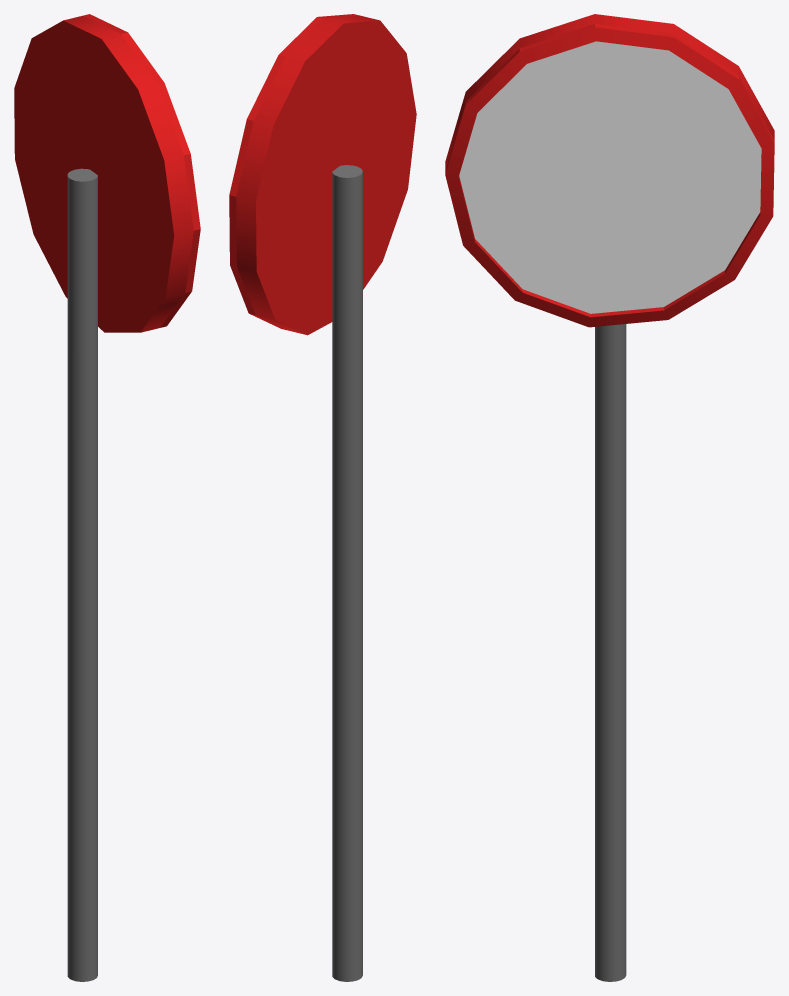
File: RoadSign_04.fbx
3 views of the same model, side by side, from view 1: azimuth 30°, elevation 25°; view 2: azimuth 150°, elevation 25°; view 3: azimuth 270°, elevation 25° (orthographic). The views are drawn at different scales.
Parts seen in each view (by area): view 1: circle_signs_w__ext; view 2: circle_signs_w__ext; view 3: circle_signs_w__ext.
Boxes of the visible parts, x1,y1,x2,y2 form: circle_signs_w__ext: [14, 14, 200, 981]; circle_signs_w__ext: [229, 14, 416, 981]; circle_signs_w__ext: [445, 14, 774, 981].
Size of the model in its own units: 0.1193 by 1.95 by 0.6018.
